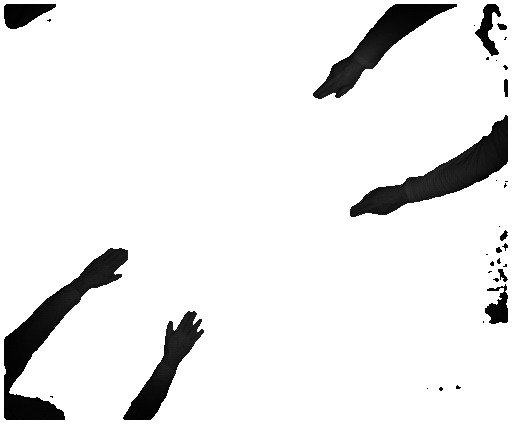hand: (163, 304, 207, 365), (344, 184, 406, 223), (312, 58, 363, 103), (81, 248, 127, 294)
